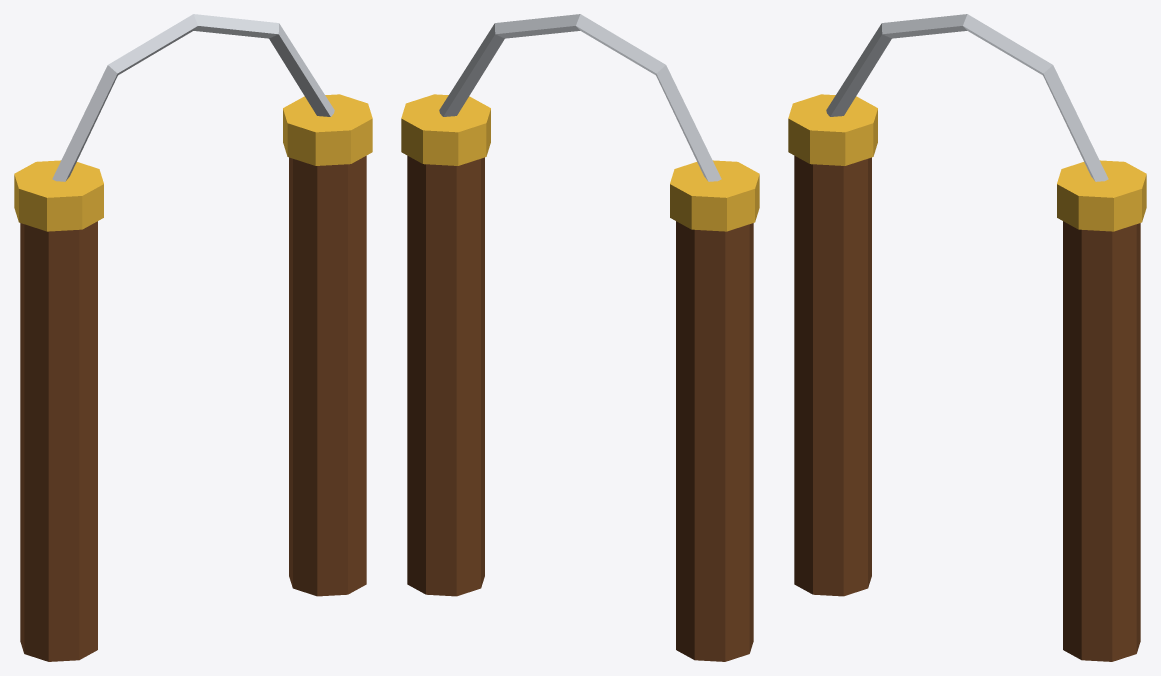
Rendered from Nunchucks.fbx.
3 views of the same model, side by side, from view 1: azimuth 30°, elevation 25°; view 2: azimuth 150°, elevation 25°; view 3: azimuth 330°, elevation 25° (orthographic).
Visible parts, largest first — view 1: Nunchucks; view 2: Nunchucks; view 3: Nunchucks.
Boxes of the visible parts, x1,y1,x2,y2 form: Nunchucks: (14,14,372,661); Nunchucks: (401,14,759,661); Nunchucks: (788,14,1146,661).
Bounding box in the file's own units: 1.3 × 2.13 × 0.3.
1 material, 1 textured.
